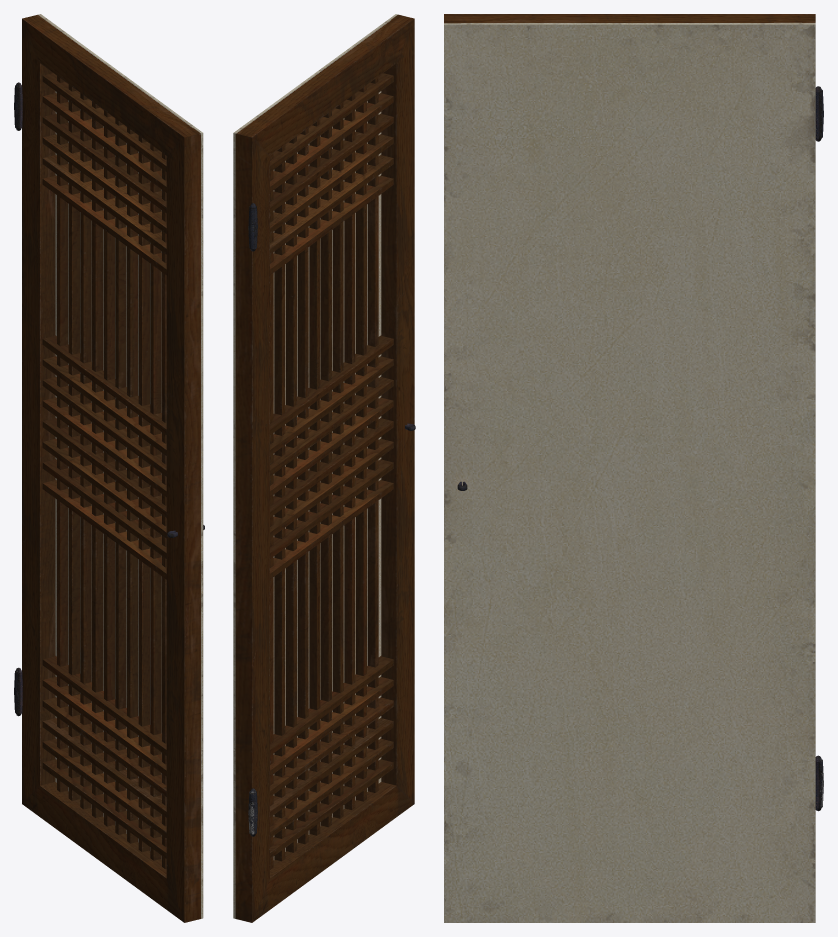
Rendered from SM_Door01b_01.fbx.
3 views of the same model, side by side, from view 1: azimuth 30°, elevation 25°; view 2: azimuth 150°, elevation 25°; view 3: azimuth 270°, elevation 25° (orthographic). The views are drawn at different scales.
Parts seen in each view (by area): view 1: SM_Door01b_01; view 2: SM_Door01b_01; view 3: SM_Door01b_01.
Boxes of the visible parts, bbox=[...] form: SM_Door01b_01: bbox=[14, 14, 204, 922]; SM_Door01b_01: bbox=[233, 14, 415, 922]; SM_Door01b_01: bbox=[444, 14, 823, 922].
Bounding box in the file's own units: 7.8 × 160 × 61.32.
Materials: 1 (1 with a texture image).
